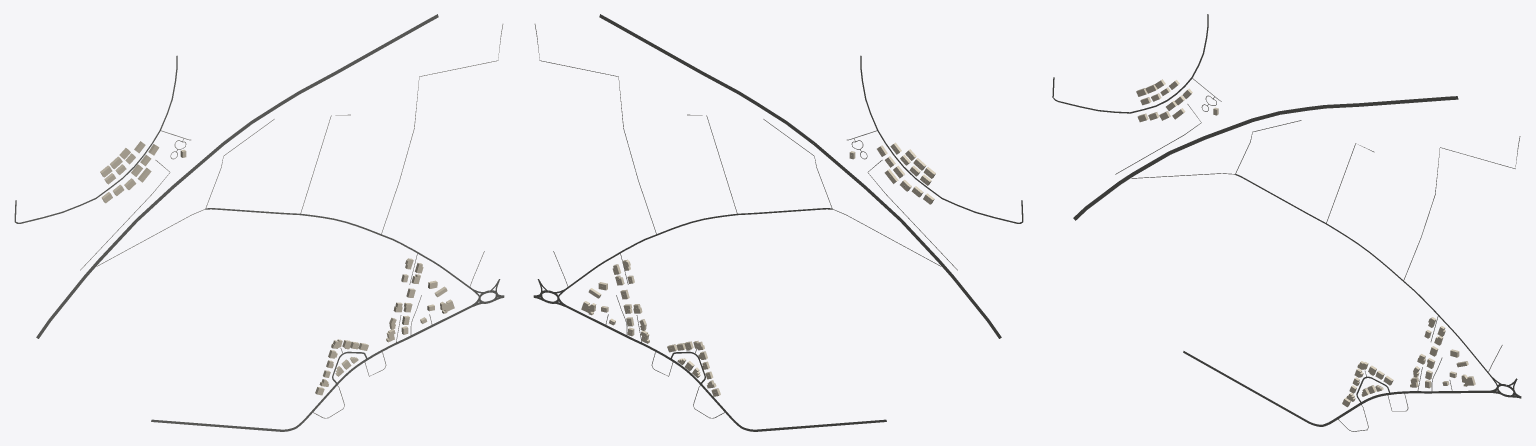
The model's file is historic-palestine-07_29_3494_3230.glb.
The picture shows the model from 3 angles, left to right: view 1: azimuth 30°, elevation 25°; view 2: azimuth 150°, elevation 25°; view 3: azimuth 330°, elevation 25°; orthographic projection. The views are drawn at different scales.
Parts seen in each view (by area): view 1: Road 562, Road מבוא הגפן, Road התאנה, Road טופז; view 2: Road 562, Road מבוא הגפן, Road התאנה, Road טופז; view 3: Road 562, Road מבוא הגפן, Road התאנה, Road טופז.
Boxes of the visible parts, x1=… form: Road 562: x1=36, y1=14, x2=438, y2=338; Road מבוא הגפן: x1=151, y1=305, x2=471, y2=431; Road התאנה: x1=205, y1=208, x2=473, y2=290; Road טופז: x1=14, y1=55, x2=177, y2=223; Road 562: x1=599, y1=14, x2=1001, y2=338; Road מבוא הגפן: x1=566, y1=305, x2=886, y2=431; Road התאנה: x1=564, y1=208, x2=832, y2=290; Road טופז: x1=860, y1=55, x2=1023, y2=223; Road 562: x1=1073, y1=96, x2=1458, y2=220; Road מבוא הגפן: x1=1183, y1=351, x2=1490, y2=426; Road התאנה: x1=1235, y1=174, x2=1491, y2=376; Road טופז: x1=1052, y1=14, x2=1208, y2=113.
Bounding box in the file's own units: 1120 × 880 × 8.7.
